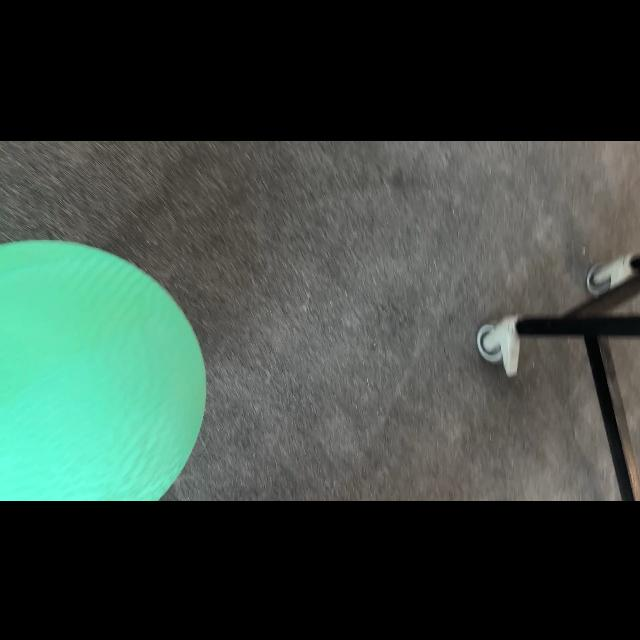ALGAE: (2, 238, 208, 500)
